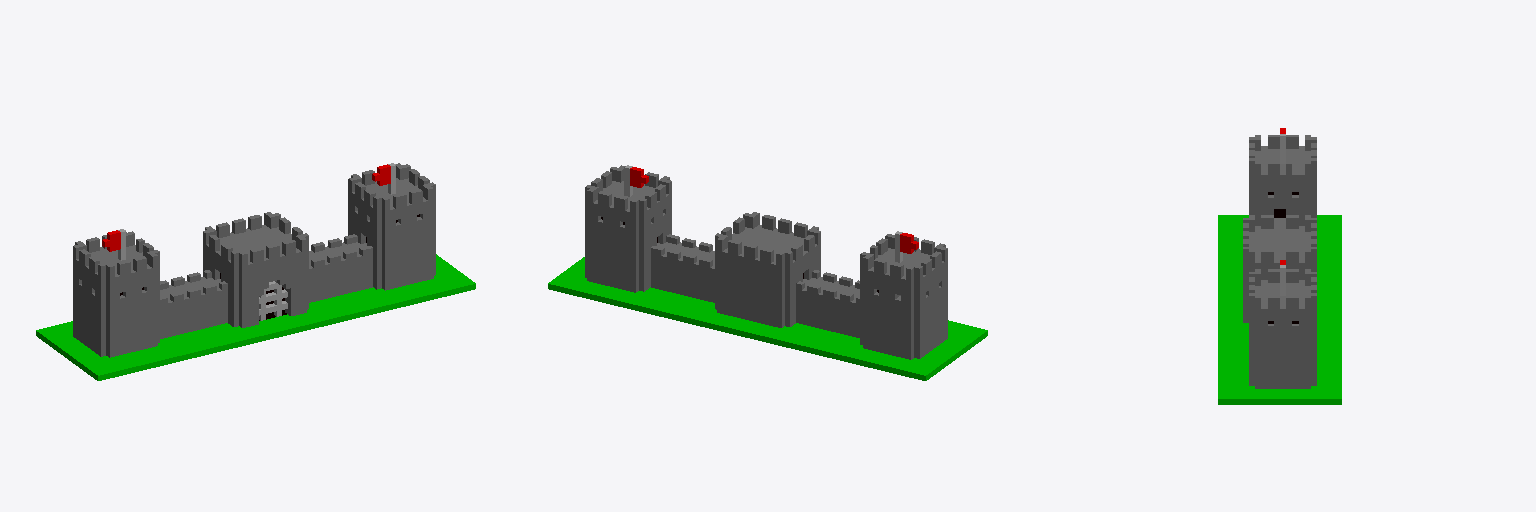
The picture shows the model from 3 angles: view 1: azimuth 30°, elevation 25°; view 2: azimuth 150°, elevation 25°; view 3: azimuth 270°, elevation 25°; orthographic projection.
Visible parts, largest first — view 1: PlayerCastle; view 2: PlayerCastle; view 3: PlayerCastle.
Boxes of the visible parts, x1,y1,x2,y2 form: PlayerCastle: [36, 163, 475, 380]; PlayerCastle: [548, 165, 987, 380]; PlayerCastle: [1218, 128, 1341, 404].
Bounding box in the file's own units: 70 × 20 × 20.
Materials: 1 (1 with a texture image).